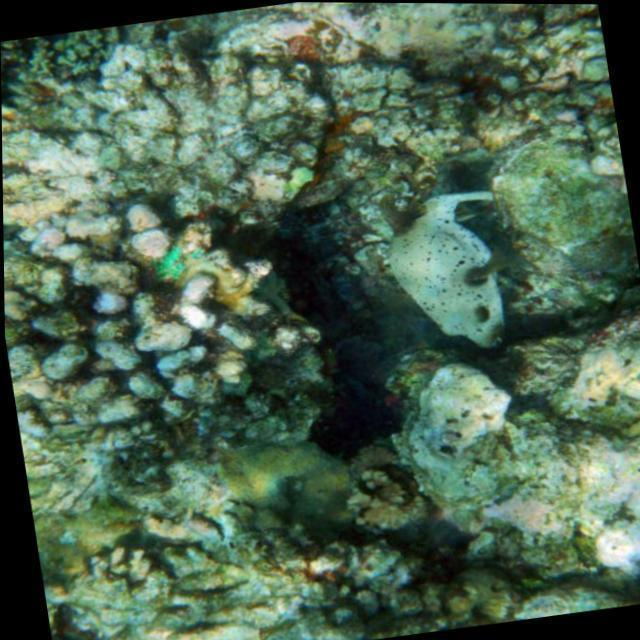Dead Coral: (2, 177, 338, 512), (54, 453, 507, 640), (465, 3, 622, 182), (20, 26, 137, 88)
